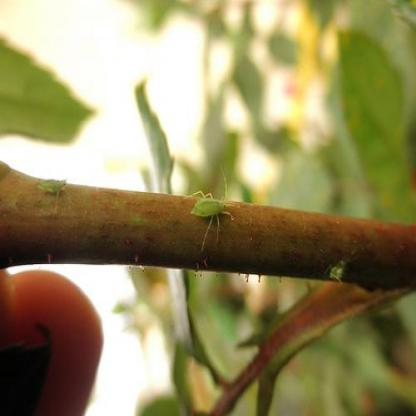aphid: (189, 173, 237, 244), (36, 174, 76, 204)
